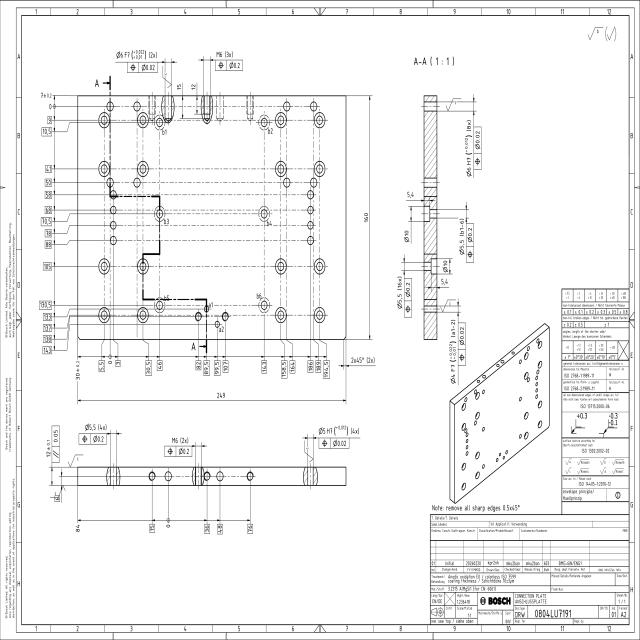dimension: (448, 318, 459, 385), (115, 48, 158, 61), (464, 119, 473, 178), (318, 424, 360, 436), (350, 355, 376, 365), (84, 422, 108, 432), (459, 218, 465, 255), (397, 276, 403, 312), (216, 48, 234, 58), (171, 436, 189, 445), (75, 358, 81, 382), (40, 216, 53, 227), (38, 300, 52, 310), (281, 360, 288, 380), (323, 360, 330, 380), (45, 439, 52, 459), (41, 126, 53, 137), (214, 359, 221, 377), (41, 334, 53, 344), (145, 359, 152, 376), (203, 359, 210, 376), (42, 262, 53, 272), (42, 311, 52, 322), (42, 346, 53, 356), (307, 359, 314, 374), (42, 324, 52, 334), (222, 360, 229, 374), (289, 360, 296, 374), (98, 360, 105, 373), (195, 359, 202, 372), (44, 190, 53, 200), (44, 205, 53, 215), (315, 359, 321, 374), (216, 391, 226, 400), (440, 277, 450, 286), (41, 92, 52, 100), (261, 360, 267, 374), (44, 164, 52, 174), (44, 228, 52, 238), (44, 239, 52, 249), (406, 190, 414, 200), (157, 359, 163, 372), (247, 522, 253, 535), (403, 230, 409, 243), (442, 260, 448, 273), (44, 178, 52, 187), (204, 523, 210, 535), (217, 523, 223, 535), (190, 82, 197, 92), (364, 211, 369, 224), (54, 491, 60, 501), (75, 523, 81, 533), (149, 523, 155, 533), (176, 82, 182, 91), (47, 115, 52, 125), (114, 360, 121, 367), (47, 103, 53, 110), (107, 360, 113, 365), (165, 524, 171, 529)
